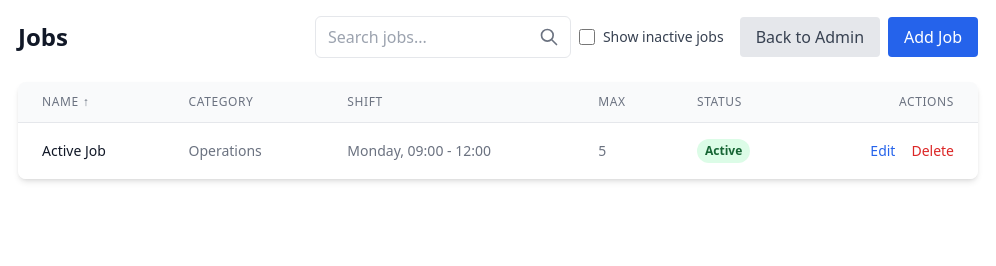
Scenario: AdminJobsPage › shows the actionable deletion failure
Check: the text "Active Job" is shown, box [18,122,164,179]
What coordinates should you click on to do the following:
click the button "Delete"
I would click on:
 (933, 151)
Its box is [911,141,954,161].
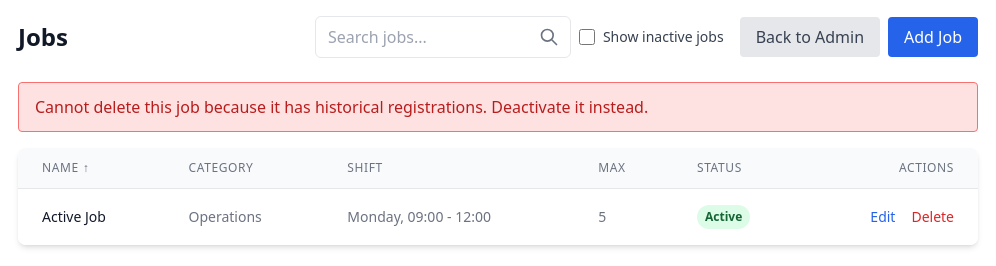
Check: the text "historical registrations. Deactivate it instead." is shown, box [35,96,648,118]
